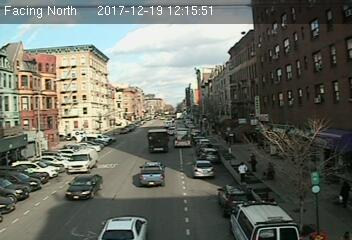car: (96, 213, 151, 240), (216, 184, 253, 213), (65, 174, 103, 201), (139, 160, 166, 186), (191, 160, 214, 178), (199, 148, 220, 165)
pedestrian: (237, 161, 249, 182)
police: (229, 199, 300, 240)
truck: (68, 148, 98, 172), (173, 128, 191, 149)
ups: (146, 129, 170, 153)
